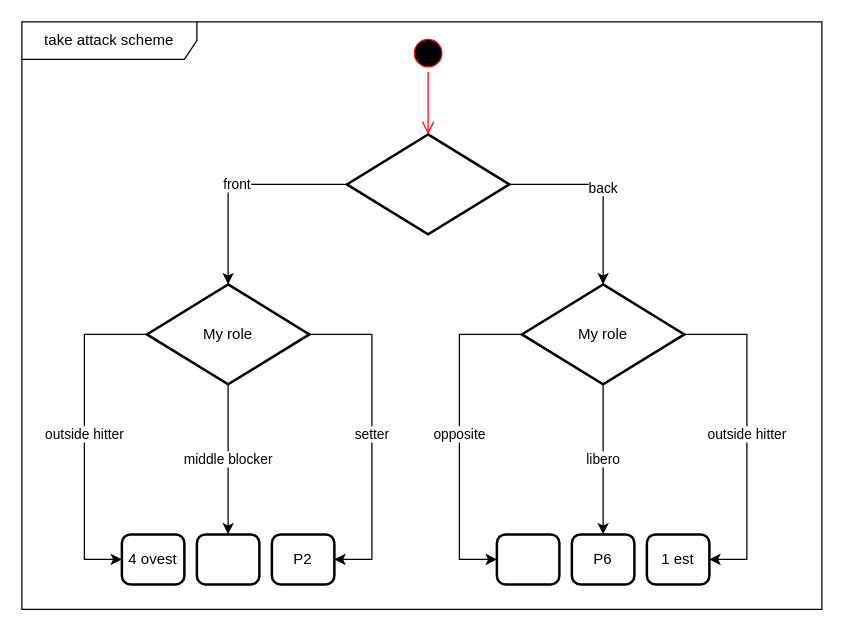
Image size: 844x631. Some labels were removed from this diagram. The shapes that lost their labels are listed below. From the top down, each one's centre as x and y in pixels, then its label:
At [427,183]: "My court".
At [227,558]: "P3".
At [527,558]: "5 ovest".
